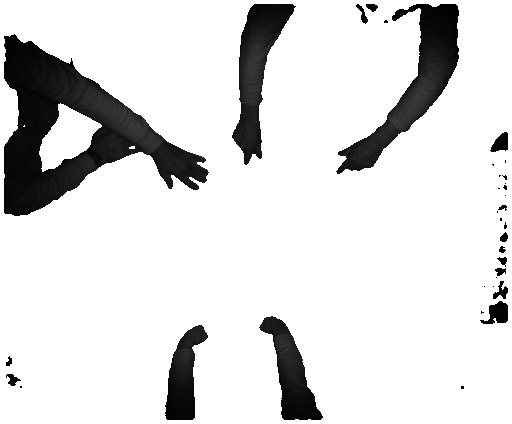fist: (174, 320, 207, 351), (256, 312, 295, 338)
hand: (157, 144, 213, 191), (336, 136, 383, 175), (233, 118, 263, 167)
